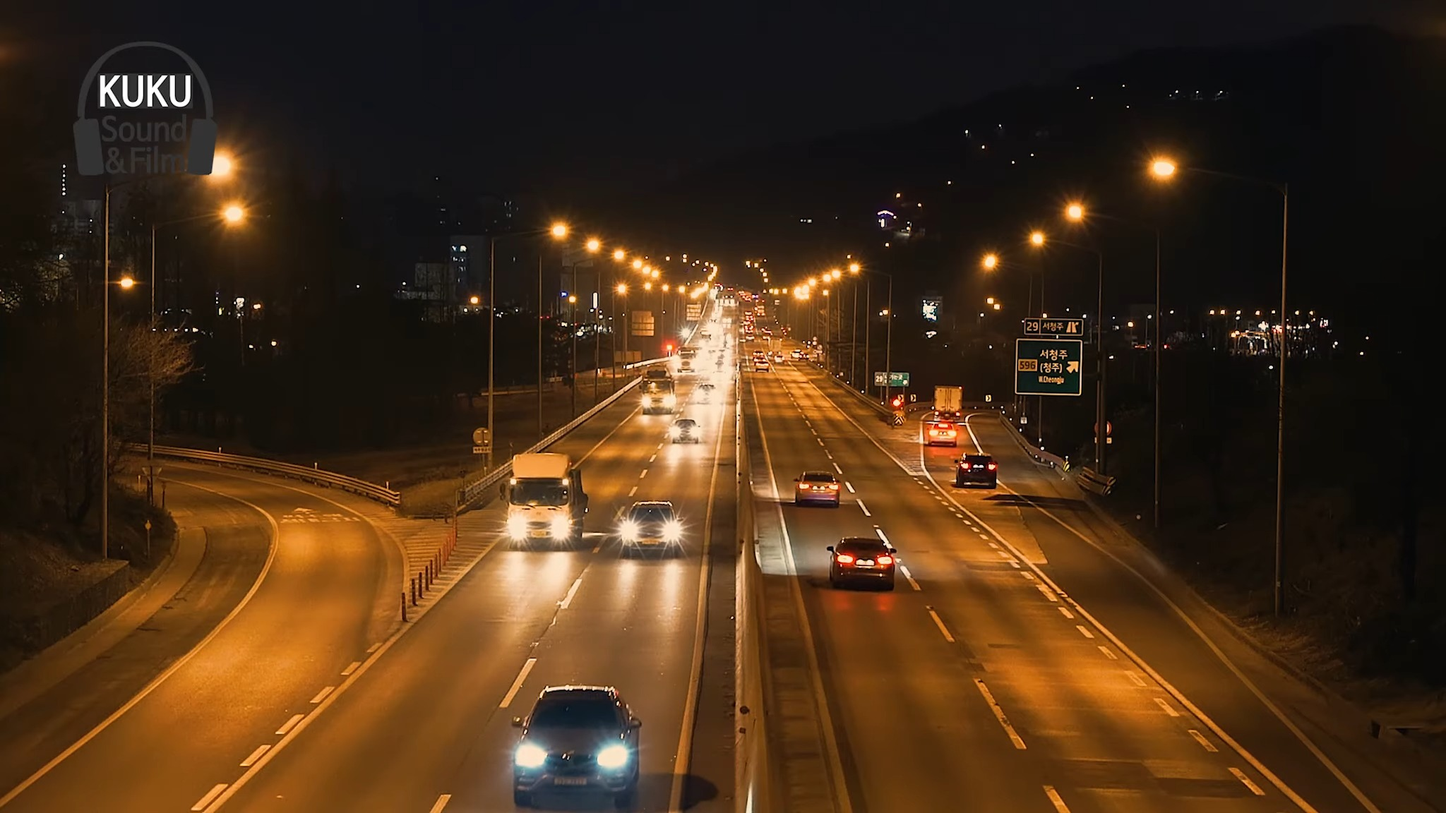car: (509, 682, 640, 812), (615, 498, 685, 560), (826, 537, 900, 591)
truck: (503, 448, 585, 550)
